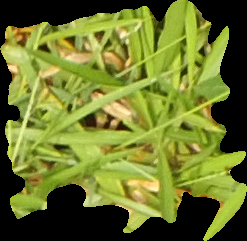grass: (1, 1, 246, 240)
